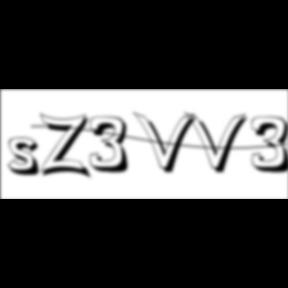3: (90, 116, 136, 176)
V: (184, 110, 252, 176), (134, 110, 200, 176)
Z: (40, 112, 96, 181)
s: (9, 137, 48, 179)
